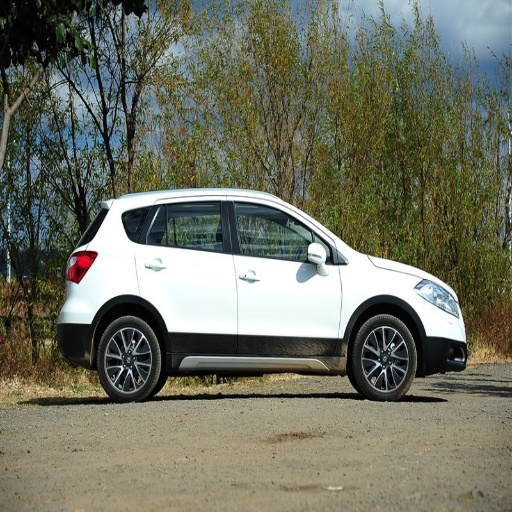back_right_door: (135, 197, 236, 356)
front_right_door: (230, 198, 341, 359)
